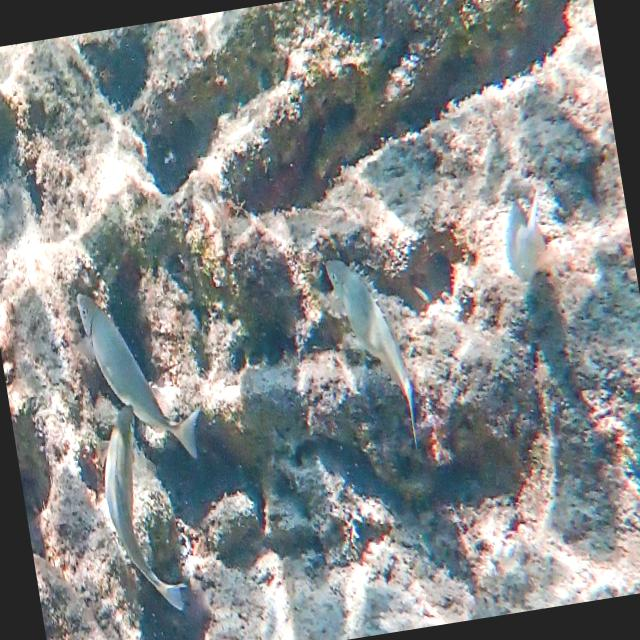Sokar Baligi: (54, 261, 222, 482), (311, 228, 441, 460)
